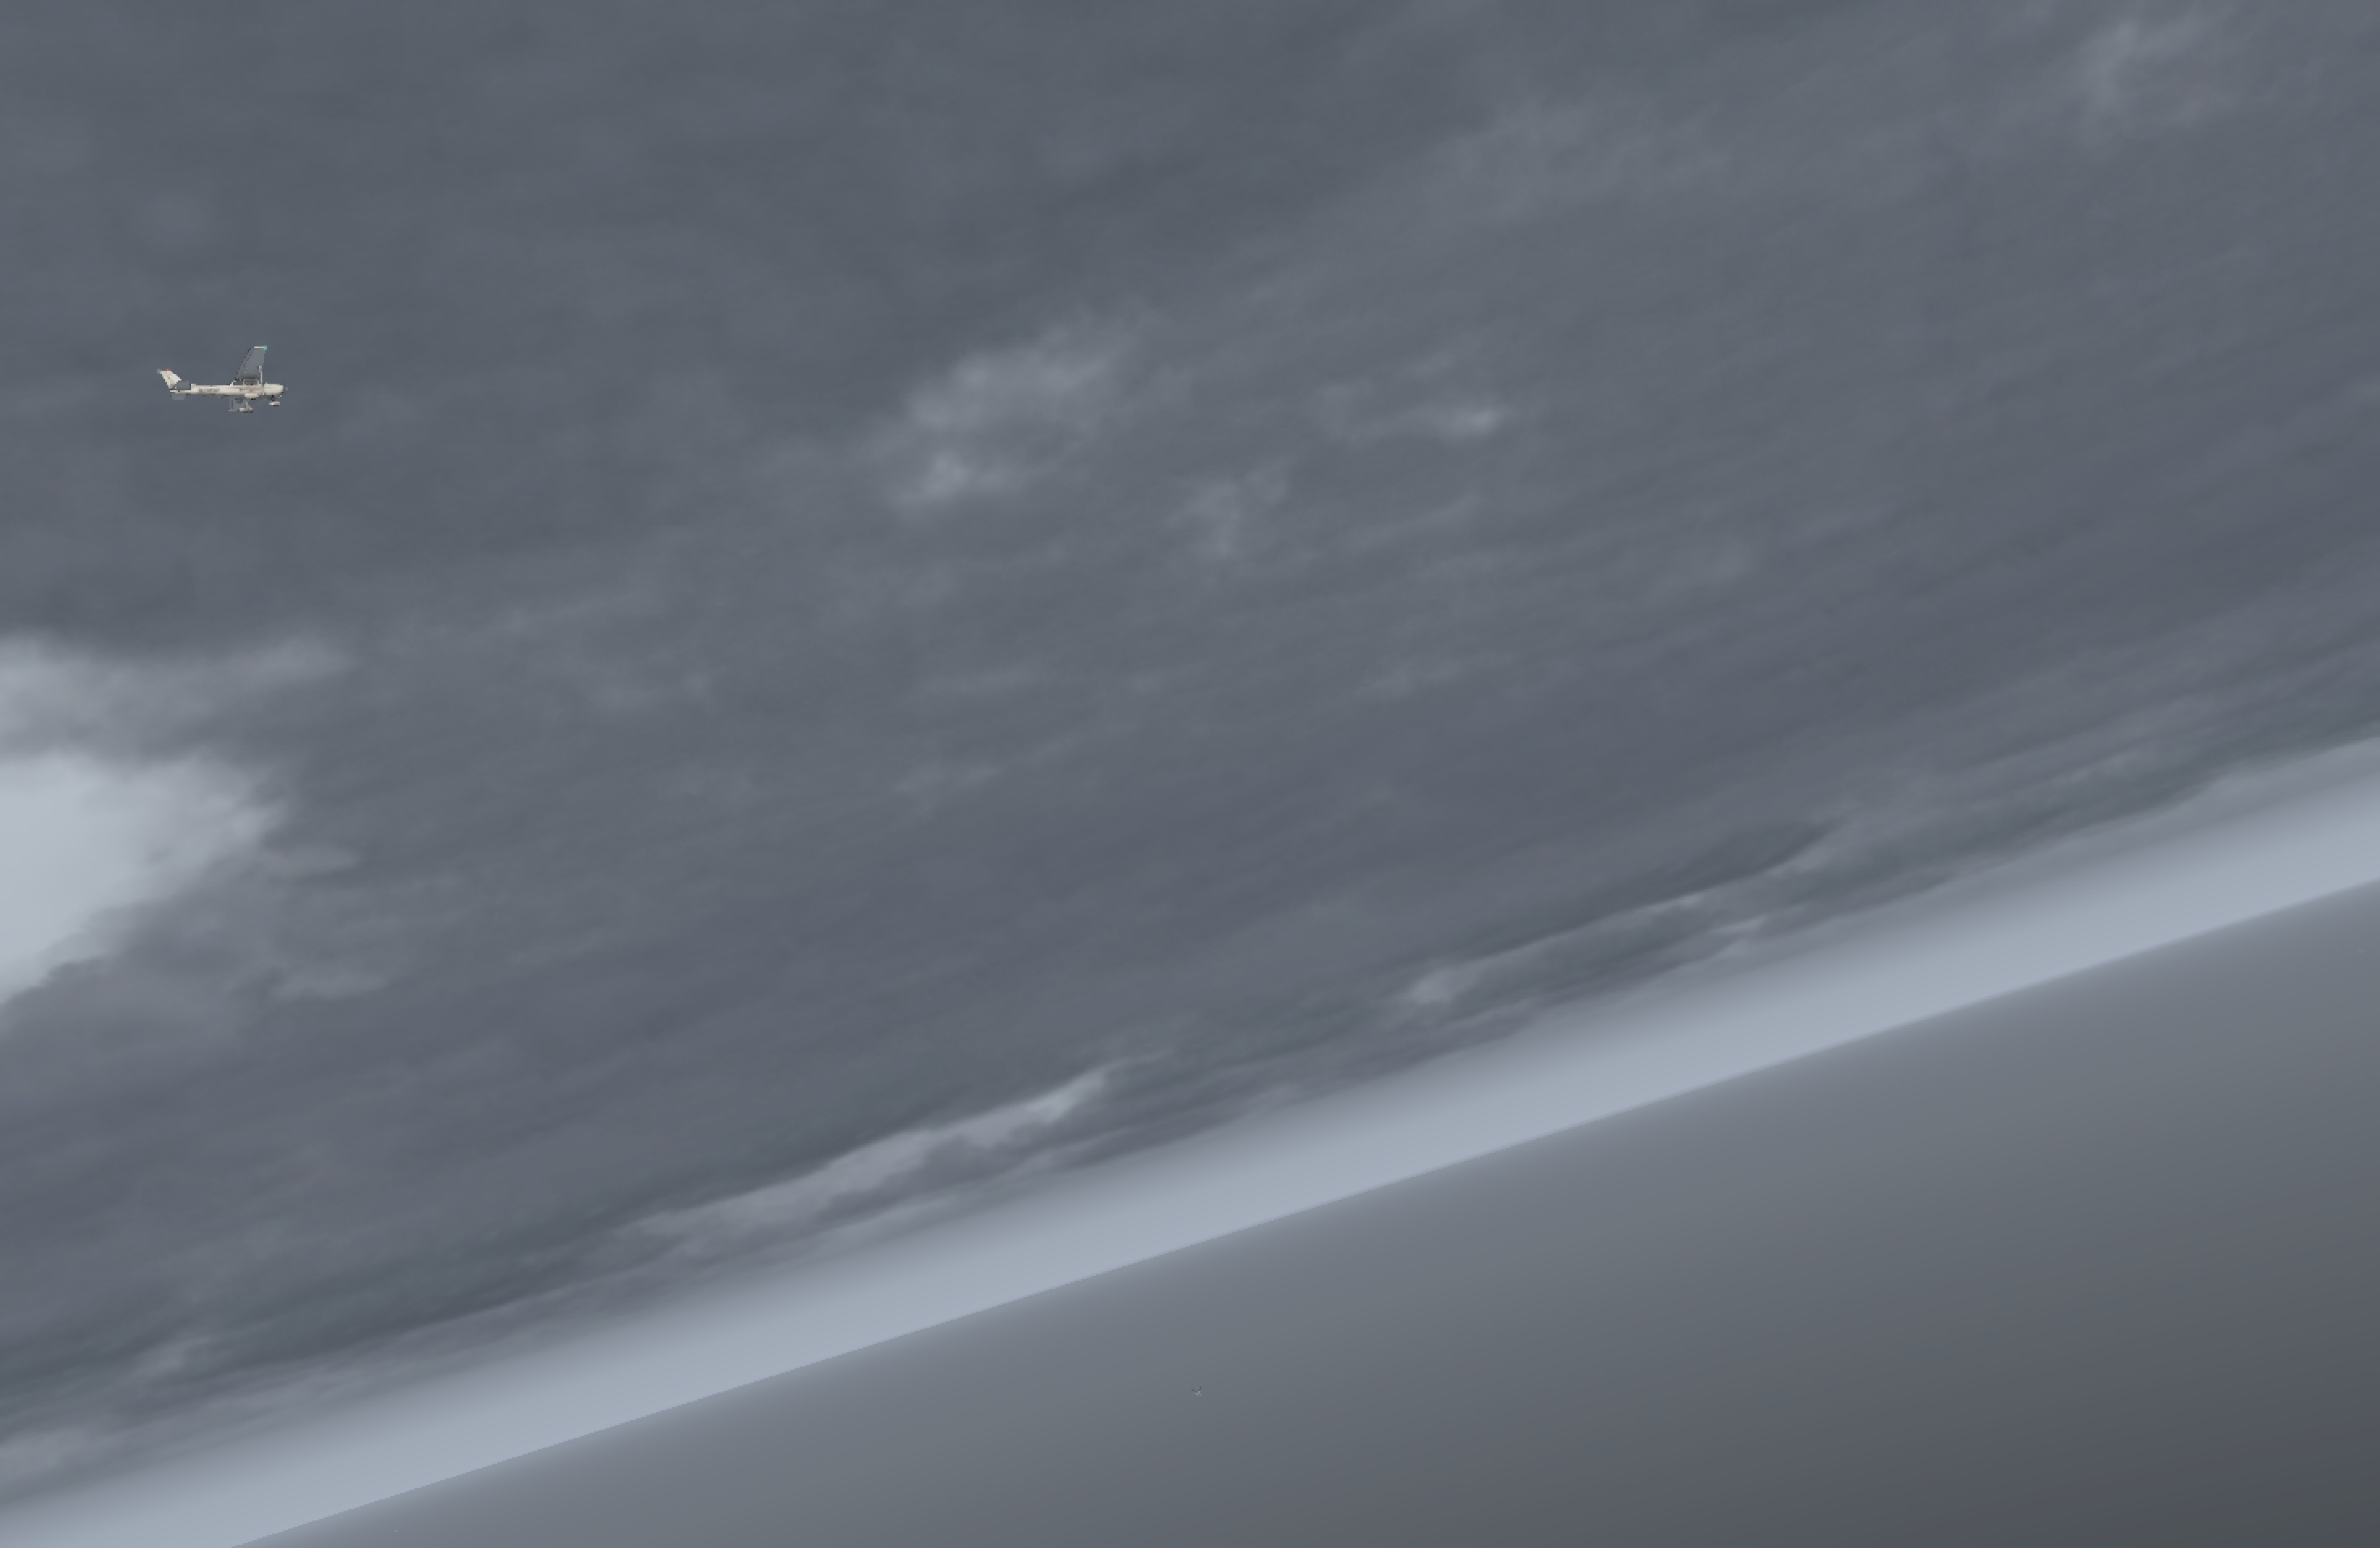aircraft: (203, 370, 302, 408)
